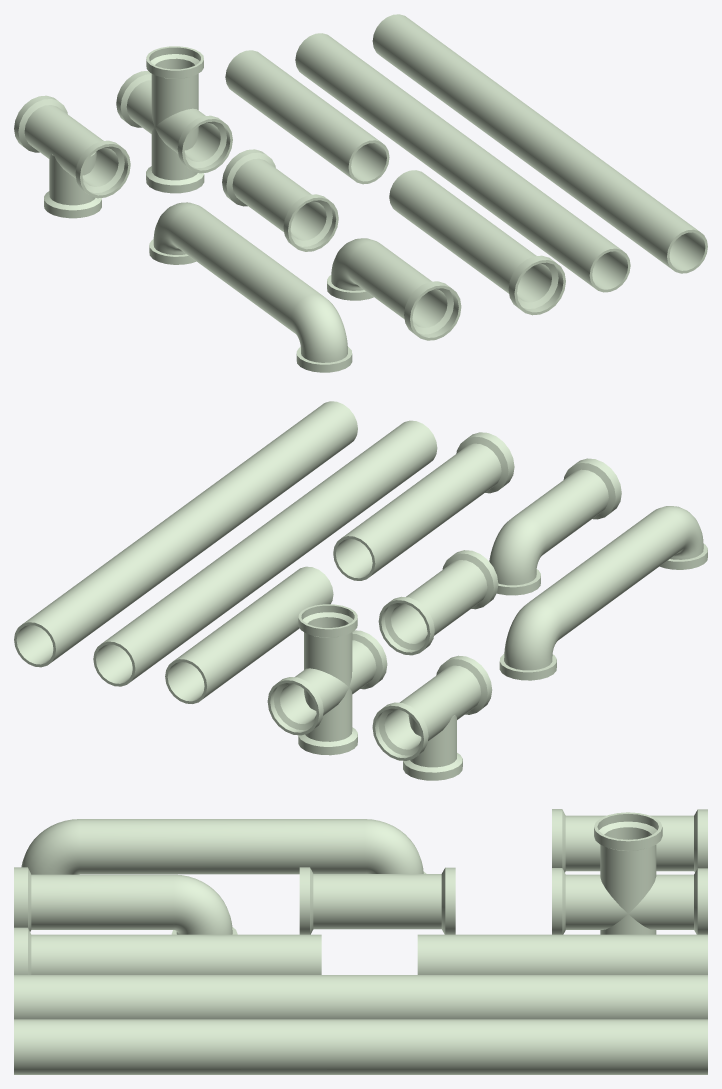
The model's file is pipes[--].fbx.
The picture shows the model from 3 angles, top to bottom: view 1: azimuth 30°, elevation 25°; view 2: azimuth 150°, elevation 25°; view 3: azimuth 270°, elevation 25°; orthographic projection. The views are drawn at different scales.
Parts seen in each view (by area): view 1: Cylinder.020, Cylinder.019, Cylinder.012, Cylinder.016, Cylinder.014, Cylinder.018, Cylinder.017, Cylinder.013, Cylinder.015; view 2: Cylinder.019, Cylinder.020, Cylinder.012, Cylinder.016, Cylinder.014, Cylinder.018, Cylinder.017, Cylinder.013, Cylinder.015; view 3: Cylinder.020, Cylinder.019, Cylinder.012, Cylinder.016, Cylinder.014, Cylinder.013, Cylinder.018, Cylinder.015, Cylinder.017.
Boxes of the visible parts, x1,y1,x2,y2 form: Cylinder.020: [372, 14, 707, 273]; Cylinder.019: [295, 33, 630, 292]; Cylinder.012: [149, 202, 352, 372]; Cylinder.016: [116, 46, 232, 193]; Cylinder.014: [389, 170, 565, 315]; Cylinder.018: [225, 50, 389, 184]; Cylinder.017: [14, 95, 130, 218]; Cylinder.013: [327, 238, 461, 340]; Cylinder.015: [222, 149, 338, 251]; Cylinder.019: [93, 420, 437, 686]; Cylinder.020: [14, 401, 357, 667]; Cylinder.012: [499, 506, 707, 680]; Cylinder.016: [267, 604, 387, 755]; Cylinder.014: [333, 432, 514, 580]; Cylinder.018: [165, 566, 333, 703]; Cylinder.017: [372, 655, 492, 780]; Cylinder.013: [489, 458, 621, 595]; Cylinder.015: [378, 550, 498, 655]; Cylinder.020: [14, 1019, 707, 1074]; Cylinder.019: [14, 975, 707, 1019]; Cylinder.012: [21, 819, 426, 874]; Cylinder.016: [552, 812, 707, 934]; Cylinder.014: [14, 927, 321, 974]; Cylinder.013: [14, 867, 237, 934]; Cylinder.018: [417, 934, 707, 974]; Cylinder.015: [299, 867, 455, 934]; Cylinder.017: [552, 809, 707, 872].
Bounding box in the file's own units: 157 × 200 × 45.97.
